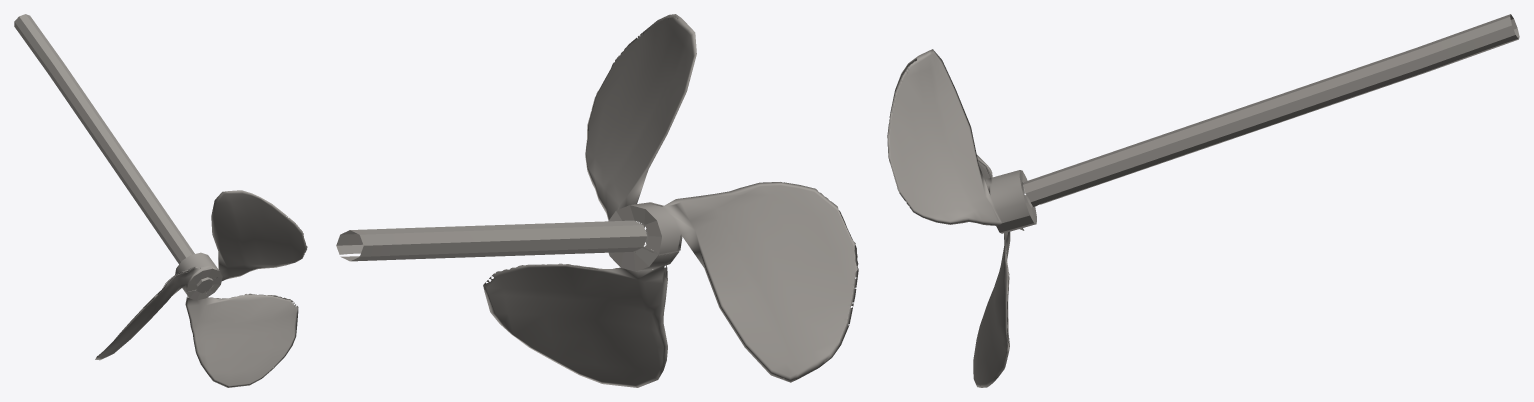
Rendered from boat_propeller.fbx.
The picture shows the model from 3 angles, left to right: view 1: azimuth 30°, elevation 25°; view 2: azimuth 150°, elevation 25°; view 3: azimuth 270°, elevation 25°; orthographic projection. The views are drawn at different scales.
Visible parts, largest first — view 1: boat_propeller; view 2: boat_propeller; view 3: boat_propeller.
Boxes of the visible parts, x1,y1,x2,y2 form: boat_propeller: (14,14,307,387); boat_propeller: (336,14,858,387); boat_propeller: (887,14,1519,387).
Size of the model in its own units: 32.41 by 35.57 by 59.73.
Materials: 1 (1 with a texture image).
